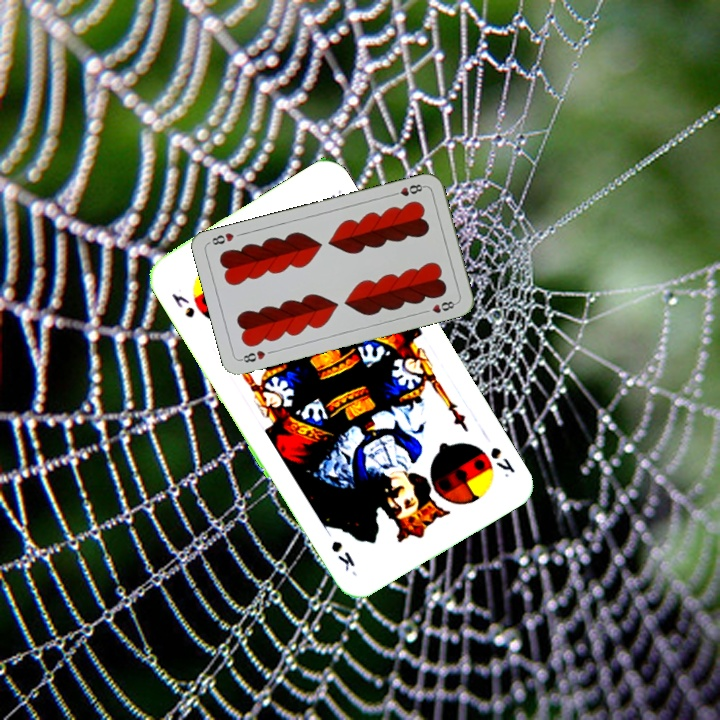H8: (388, 180, 428, 199), (236, 346, 268, 365)
SK: (486, 443, 518, 480), (167, 289, 198, 321)
